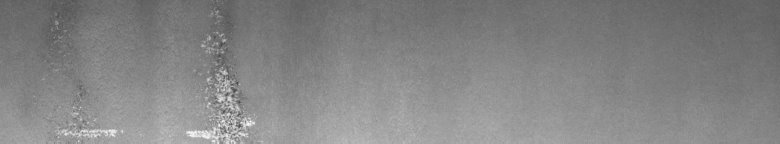hc: (184, 4, 256, 136)
